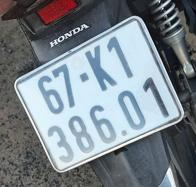0: (110, 86, 149, 135)
1: (102, 31, 140, 83), (138, 72, 175, 124)
3: (43, 121, 79, 167)
6: (84, 102, 121, 148), (33, 73, 67, 118)
7: (48, 61, 83, 111)
8: (65, 112, 101, 158)
K: (80, 41, 123, 96)
